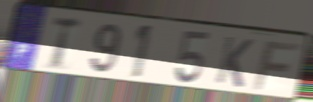1: (131, 23, 155, 82)
5: (173, 30, 212, 85)
9: (88, 23, 122, 75)
F: (251, 40, 303, 92)
K: (213, 34, 256, 90)
T: (50, 15, 85, 72)
